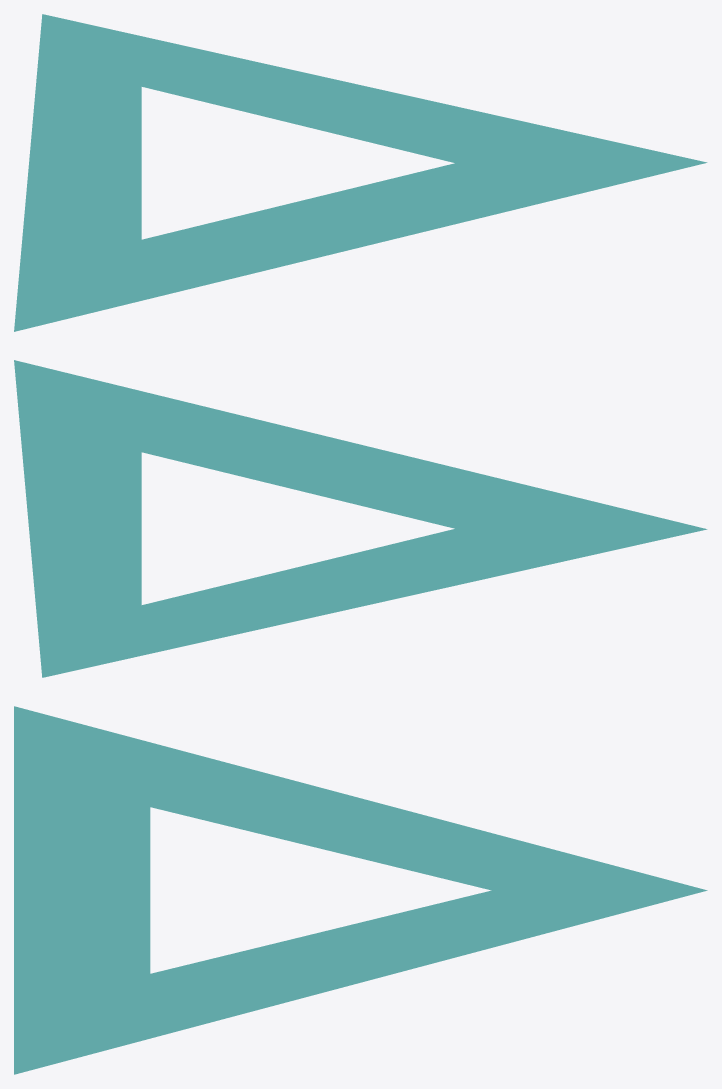
3 views of the same model, one above another, from view 1: azimuth 30°, elevation 25°; view 2: azimuth 150°, elevation 25°; view 3: azimuth 270°, elevation 25° (orthographic). The views are drawn at different scales.
Visible parts, largest first — view 1: SM_Dragons_Arena_Altar_VFX_EM_02_LOD0; view 2: SM_Dragons_Arena_Altar_VFX_EM_02_LOD0; view 3: SM_Dragons_Arena_Altar_VFX_EM_02_LOD0.
Part boxes in pixels (x1=…): SM_Dragons_Arena_Altar_VFX_EM_02_LOD0: x1=14, y1=14, x2=707, y2=331; SM_Dragons_Arena_Altar_VFX_EM_02_LOD0: x1=14, y1=360, x2=707, y2=677; SM_Dragons_Arena_Altar_VFX_EM_02_LOD0: x1=14, y1=706, x2=707, y2=1074.
Bounding box in the file's own units: 0.9837 × 0 × 0.7825.
Materials: 1 (1 with a texture image).
